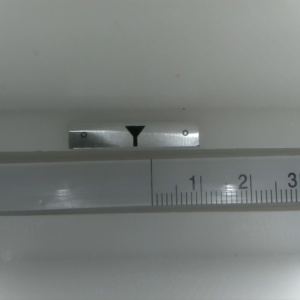1: (188, 175, 194, 190)
2: (238, 175, 247, 189)
3: (286, 172, 296, 188)
finger: (124, 126, 144, 146)
